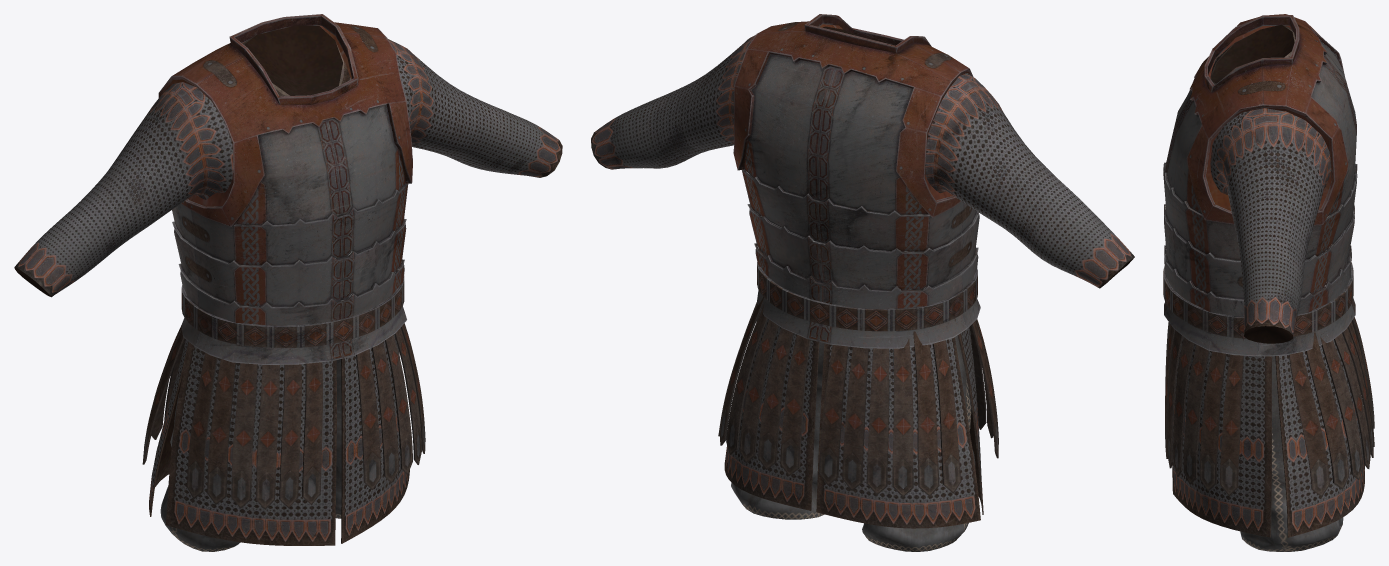
Rendered from sk_dwarf_iron_chest_elite_e.fbx.
3 renders of one model, left to right at view 1: azimuth 30°, elevation 25°; view 2: azimuth 150°, elevation 25°; view 3: azimuth 270°, elevation 25°, orthographic. The views are drawn at different scales.
Parts seen in each view (by area): view 1: sk_dwarf_iron_chest_elite_e.1, sk_dwarf_iron_chest_elite_e.0, sk_dwarf_iron_chest_elite_e.2; view 2: sk_dwarf_iron_chest_elite_e.1, sk_dwarf_iron_chest_elite_e.0, sk_dwarf_iron_chest_elite_e.2; view 3: sk_dwarf_iron_chest_elite_e.0, sk_dwarf_iron_chest_elite_e.1, sk_dwarf_iron_chest_elite_e.2.
Part boxes in pixels (x1,y1,x2,y2): sk_dwarf_iron_chest_elite_e.1: (158,14,412,551); sk_dwarf_iron_chest_elite_e.0: (14,25,562,545); sk_dwarf_iron_chest_elite_e.2: (142,275,425,509); sk_dwarf_iron_chest_elite_e.1: (731,14,980,551); sk_dwarf_iron_chest_elite_e.0: (591,26,1134,528); sk_dwarf_iron_chest_elite_e.2: (718,262,998,497); sk_dwarf_iron_chest_elite_e.0: (1172,24,1364,537); sk_dwarf_iron_chest_elite_e.1: (1163,14,1357,551); sk_dwarf_iron_chest_elite_e.2: (1163,262,1374,497).
Size of the model in its own units: 1.17 by 0.4144 by 1.03.
